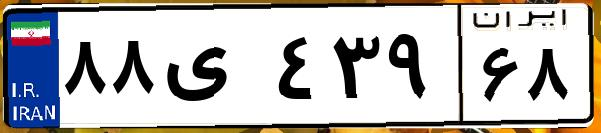3: (330, 28, 385, 110)
4: (270, 28, 330, 110)
6: (475, 38, 525, 113)
8: (57, 26, 110, 100), (525, 38, 570, 115), (110, 28, 158, 98)
9: (385, 28, 445, 110)
ی: (158, 20, 270, 120)
